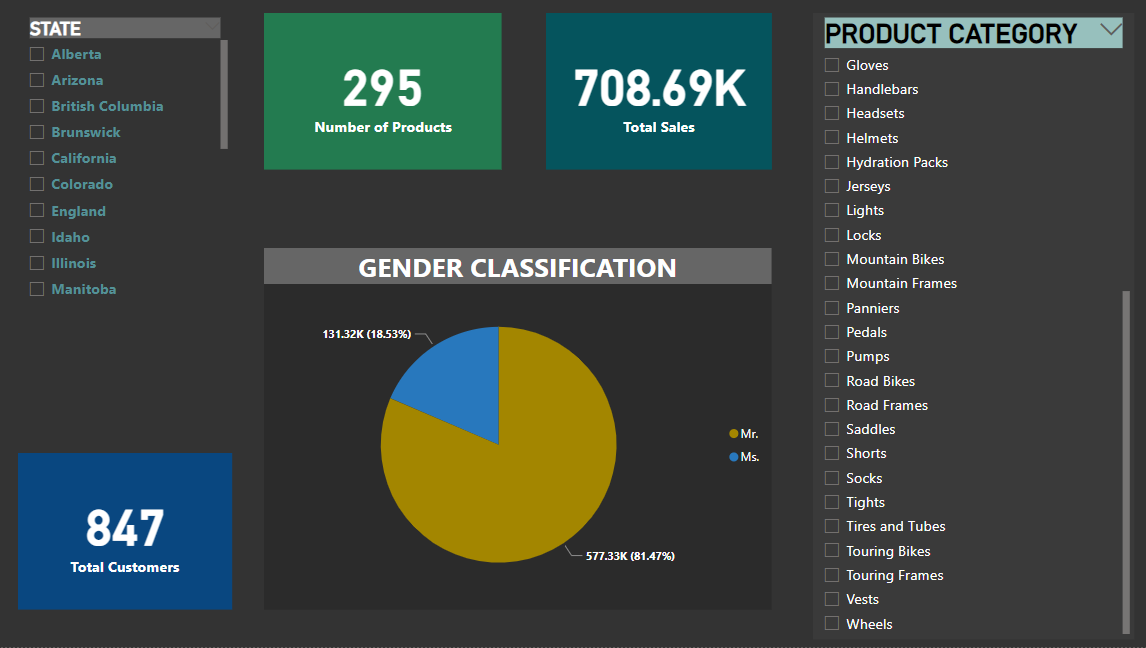

The page's visual inventory and layout, read from the dashboard file:
{"tool":"powerbi","page":{"name":"Page 1","canvas":[1280,720],"ordinal":0},"visuals":[{"type":"card","fields":{"Values":["CountNonNull(Product.Product_ID)"]},"box":[297.8,15.6,264.4,174.4],"z":0},{"type":"card","fields":{"Values":["Sum(SalesOrderDetail.Line_Total)"]},"box":[611.1,15.6,251.1,174.4],"z":1000},{"type":"slicer","fields":{"Values":["ProductCategory.Name"]},"box":[907.8,15.6,356.7,695.6],"z":2000},{"type":"card","fields":{"Values":["CountNonNull(Customer.Customer_ID)"]},"box":[24.4,504.4,237.8,174.4],"z":2002},{"type":"pieChart","title":"GENDER CLASSIFICATION","fields":{"Category":["Customer.Title"],"Y":["Sum(SalesOrderDetail.Total Sales)"]},"box":[297.8,276.7,564.4,402.2],"z":2003},{"type":"slicer","fields":{"Values":["address.State_Province"]},"box":[24.4,15.6,237.8,332.2],"z":2004}]}

Visuals, with their boxes in screenshot pixels (x1, y1, x2, y2), scaled from the page's 1280x720 canvas onto the 1146x648 screenshot:
card - CountNonNull(Product.Product_ID): (267,14,503,171)
card - Sum(SalesOrderDetail.Line_Total): (547,14,772,171)
slicer - ProductCategory.Name: (813,14,1132,640)
card - CountNonNull(Customer.Customer_ID): (22,454,235,611)
"GENDER CLASSIFICATION" pieChart: (267,249,772,611)
slicer - address.State_Province: (22,14,235,313)
